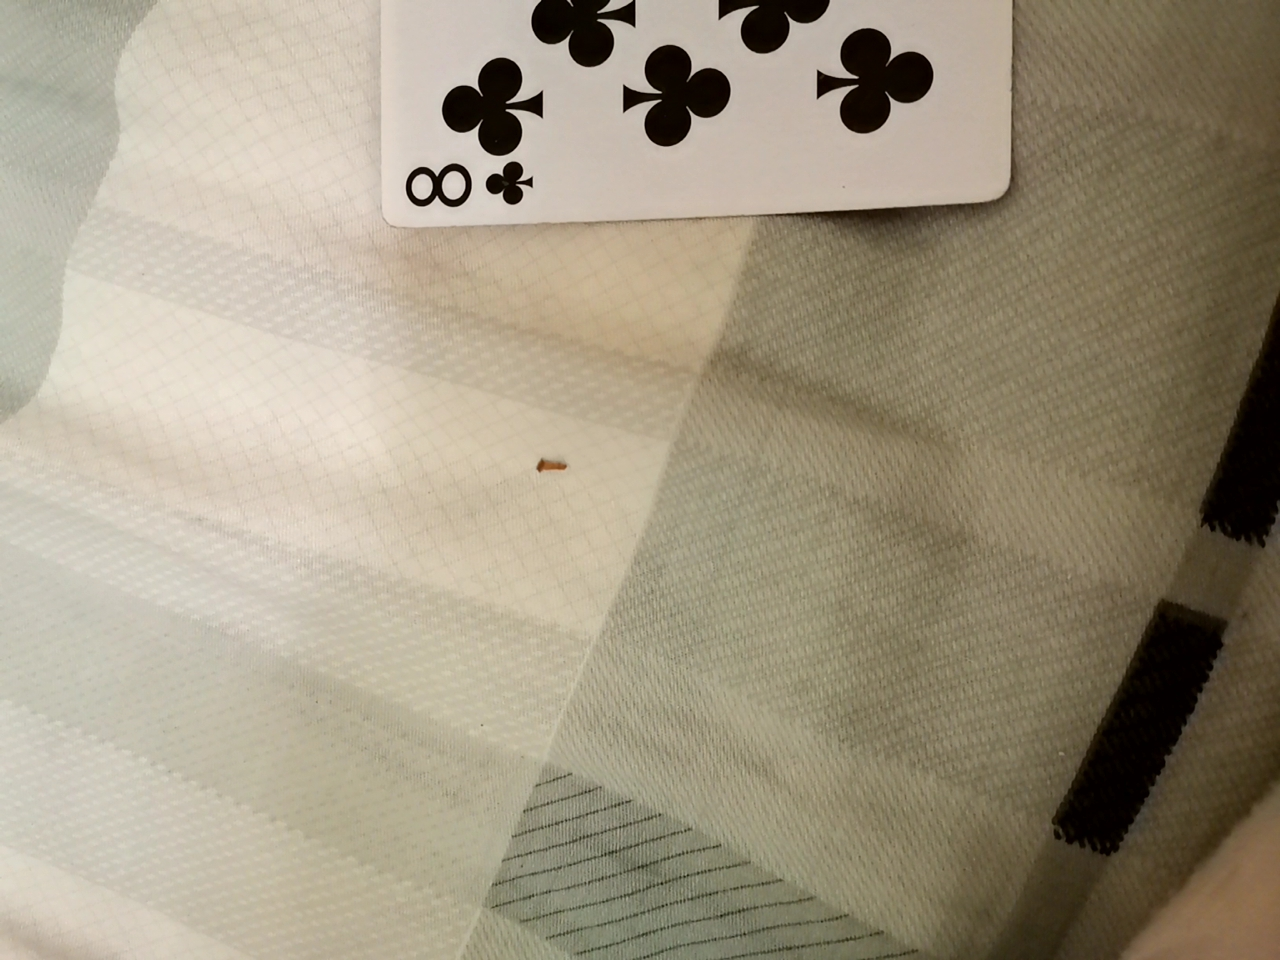mh 8: (311, 0, 1020, 226)
